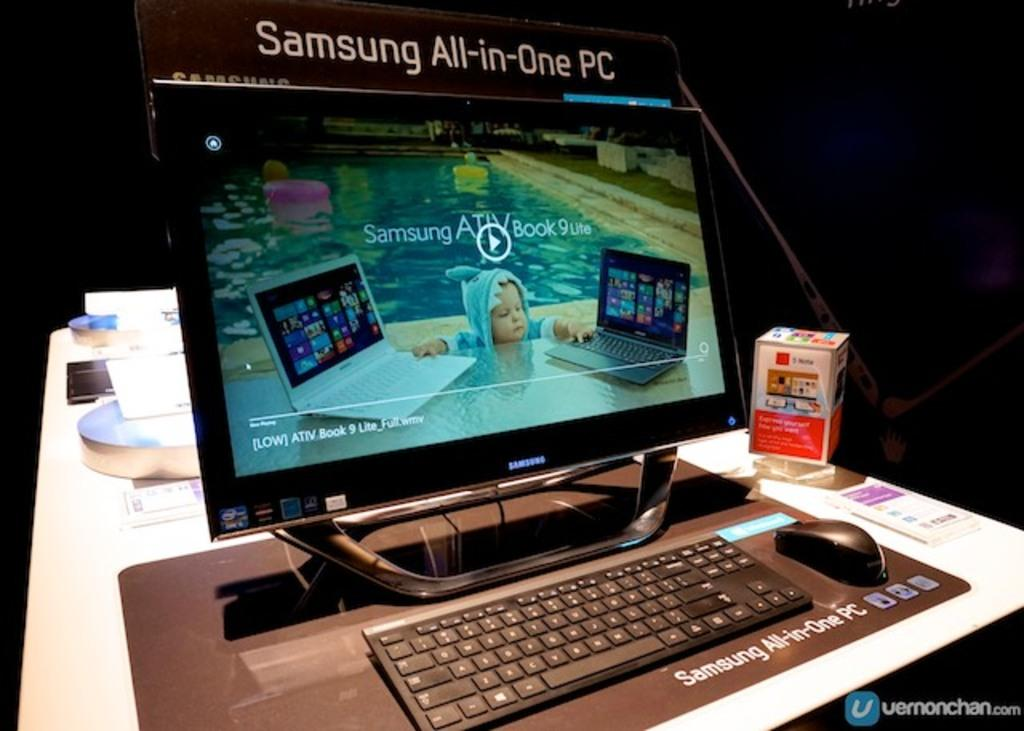Computer-keyboard: (362, 534, 811, 729)
Computer-monitor: (149, 21, 795, 601)
